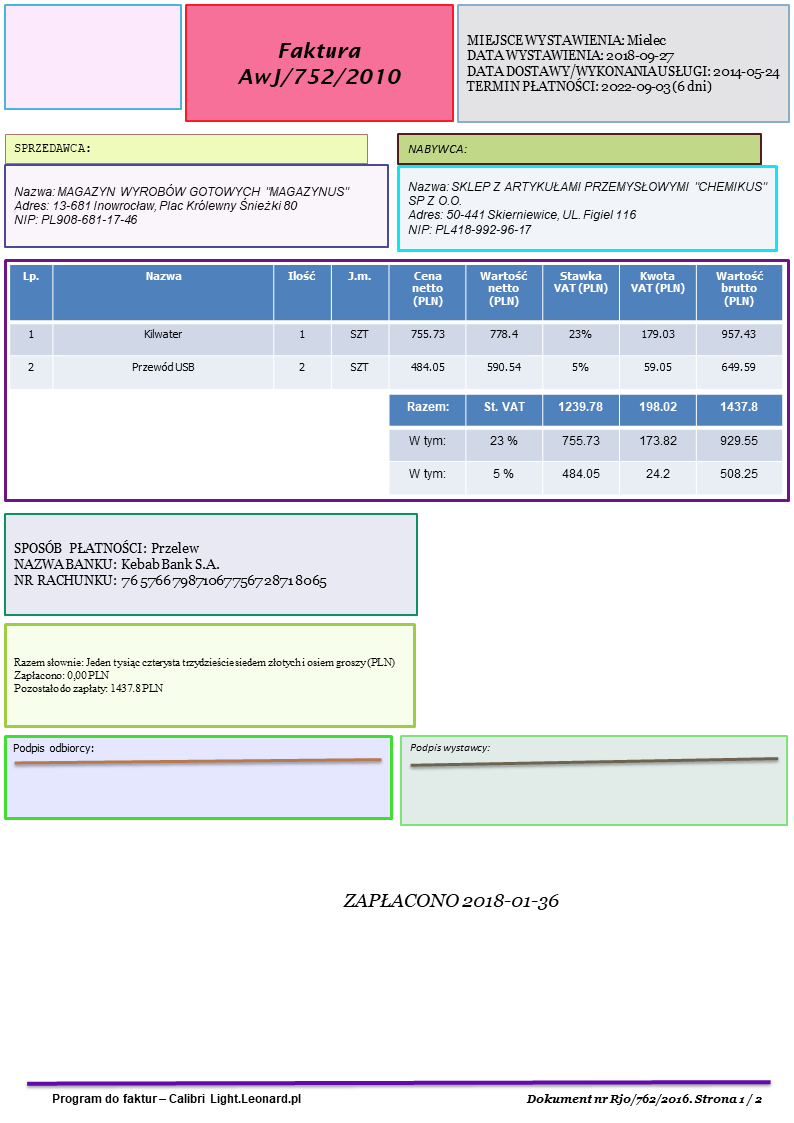Table: (9, 264, 783, 390), (387, 392, 784, 496)
TextBox: (404, 177, 770, 237), (465, 29, 782, 97), (12, 534, 328, 592), (12, 654, 398, 697), (12, 182, 353, 228), (234, 37, 406, 91), (339, 888, 565, 912), (49, 1088, 304, 1108), (525, 1088, 765, 1109), (11, 736, 96, 756), (11, 137, 92, 156), (406, 738, 489, 755), (404, 138, 468, 156)
